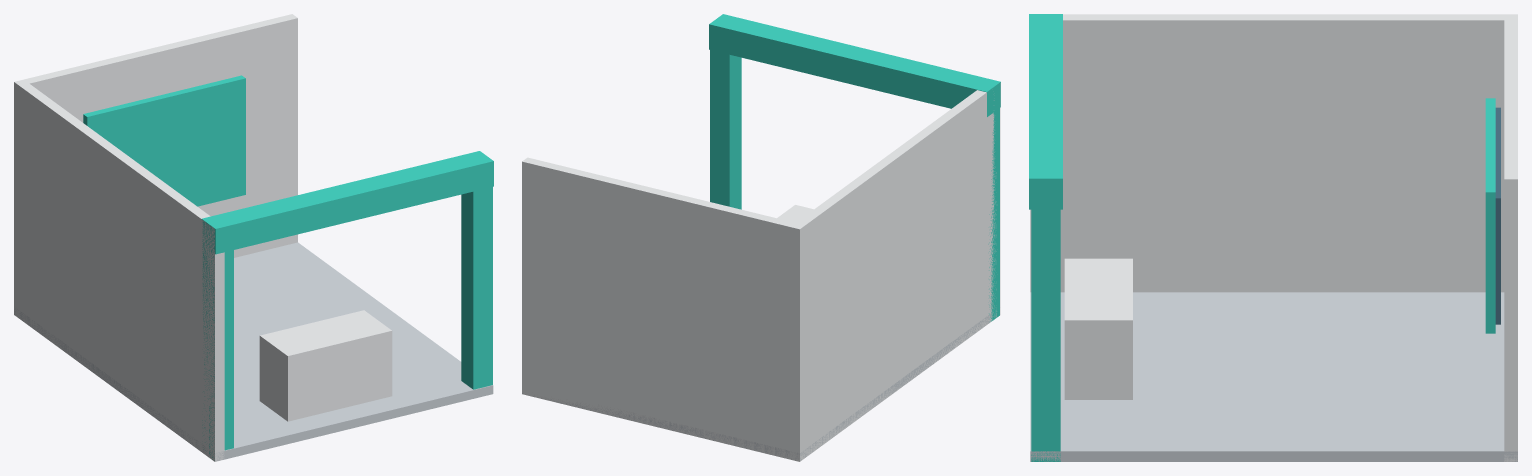
3 renders of one model, left to right at view 1: azimuth 30°, elevation 25°; view 2: azimuth 150°, elevation 25°; view 3: azimuth 270°, elevation 25°, orthographic. The views are drawn at different scales.
Visible parts, largest first — view 1: Exhibition Booth Concept; view 2: Exhibition Booth Concept; view 3: Exhibition Booth Concept.
Part boxes in pixels (box(x1,y1,x2,y2)): Exhibition Booth Concept: box(14, 14, 493, 461); Exhibition Booth Concept: box(522, 14, 1000, 461); Exhibition Booth Concept: box(1029, 14, 1517, 461).
Size of the model in its own units: 4 by 3.2 by 5.02.
